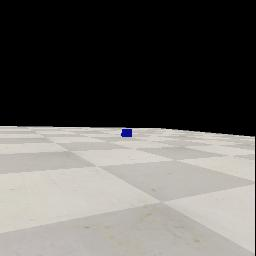box: (121, 129, 132, 137)
